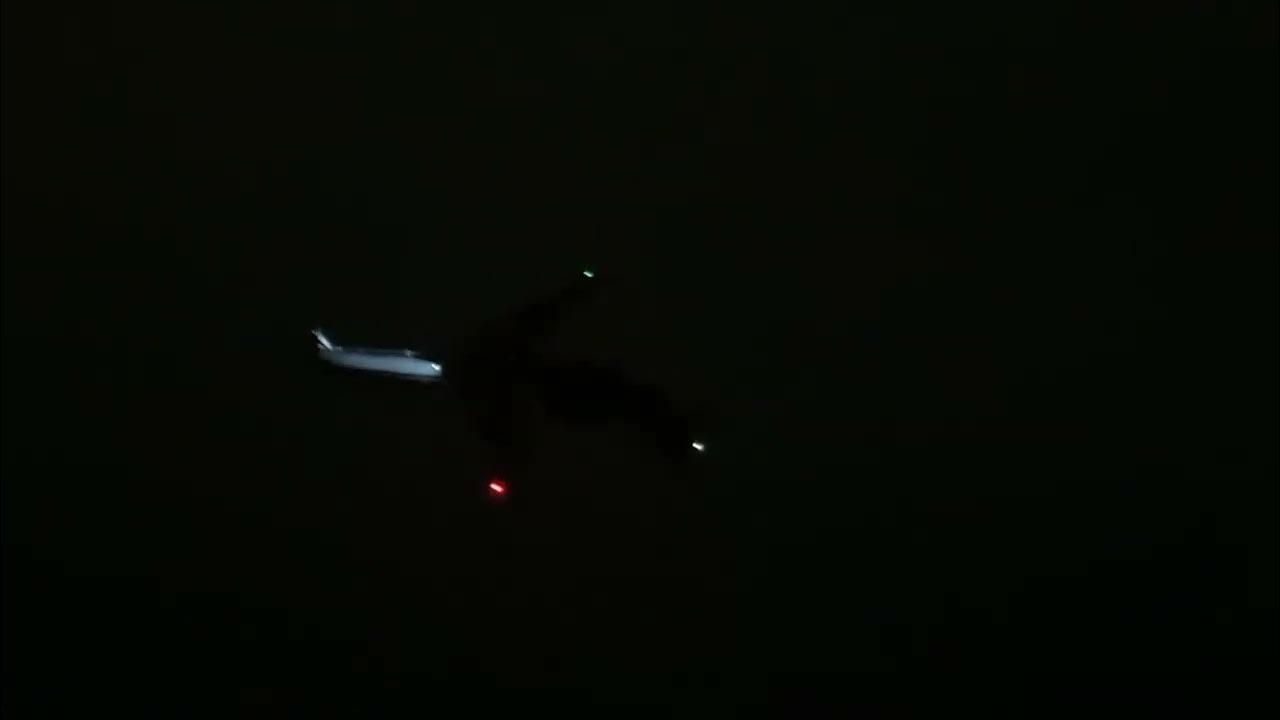Plane: (290, 263, 769, 534)
